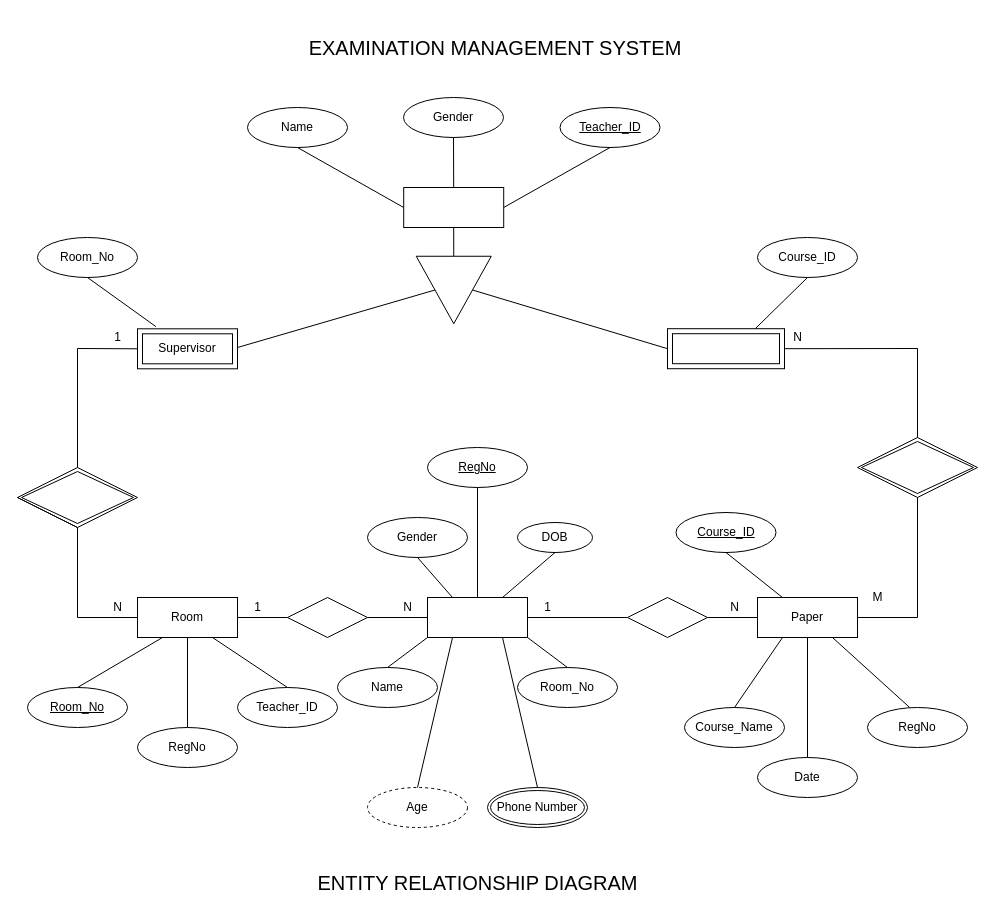
The diagram is 995 pixels wide and 914 high, and some of its shapes have lost their labels. The centre of each missing label's shape, as x and y in pixels:
Corrects: the point at 917,467
Evaluator: the point at 725,348
Gives: the point at 667,617
ISA: the point at 453,289
Sits in: the point at 327,617
Student: the point at 477,617
Supervises: the point at 77,497
Teacher: the point at 453,207
